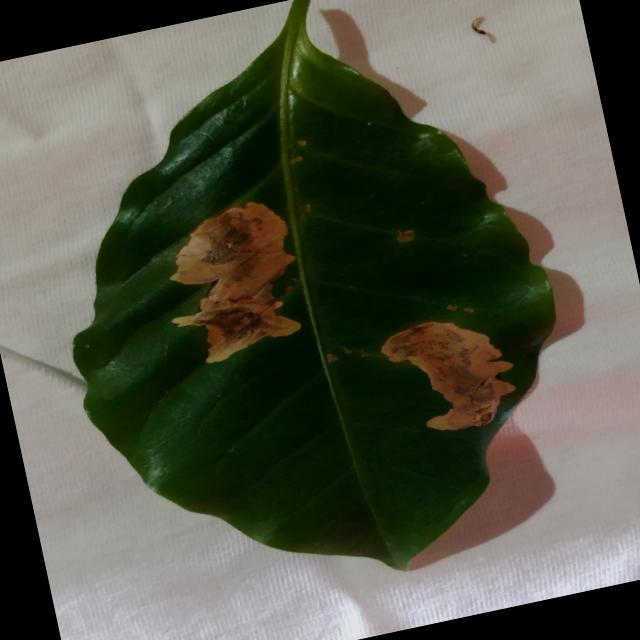PengorokDaunKopi: (170, 202, 300, 362), (381, 321, 515, 430), (397, 229, 415, 242), (325, 353, 339, 362), (290, 156, 302, 164), (447, 304, 457, 310), (360, 352, 370, 357), (297, 140, 307, 145), (286, 285, 293, 292), (305, 203, 311, 211), (344, 348, 352, 353), (464, 308, 474, 312), (367, 122, 371, 125)
